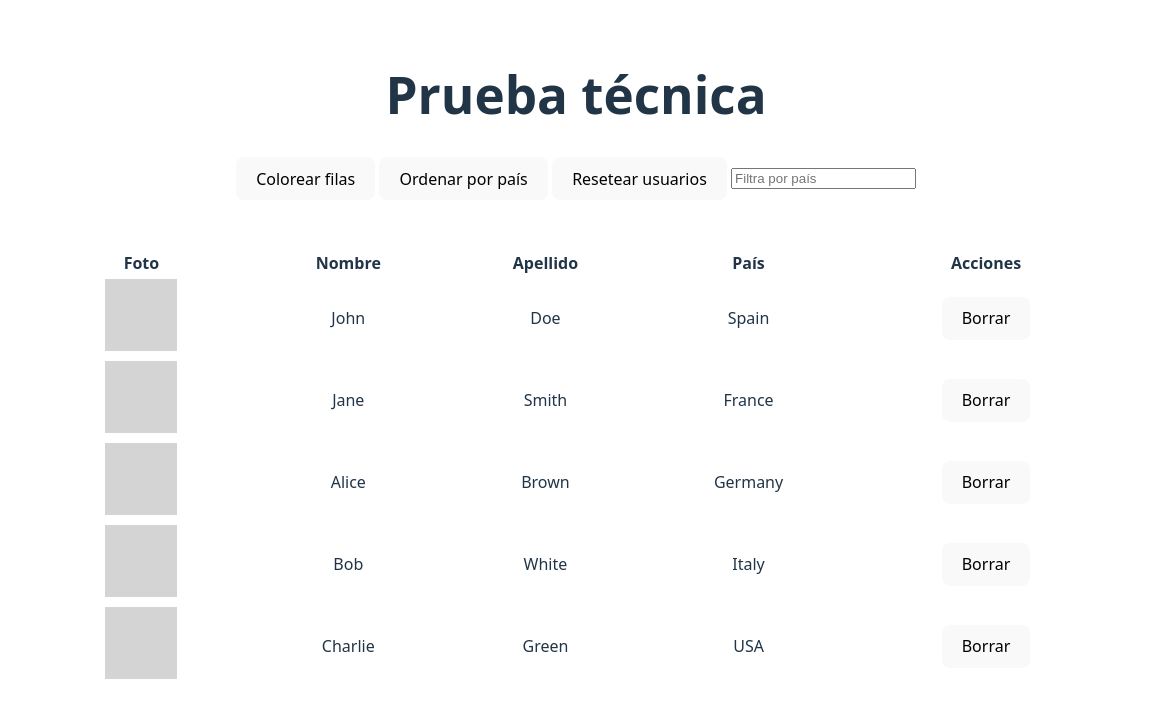
Test case: App functionalities › deletes user row from the list
The image size is (1152, 720).
Expected: the row "John Doe Spain Borrar" is shown, [34,278,1118,358]
Click the button "Borrar" in the row of "John" at point(986, 318), box [942,296,1030,340]
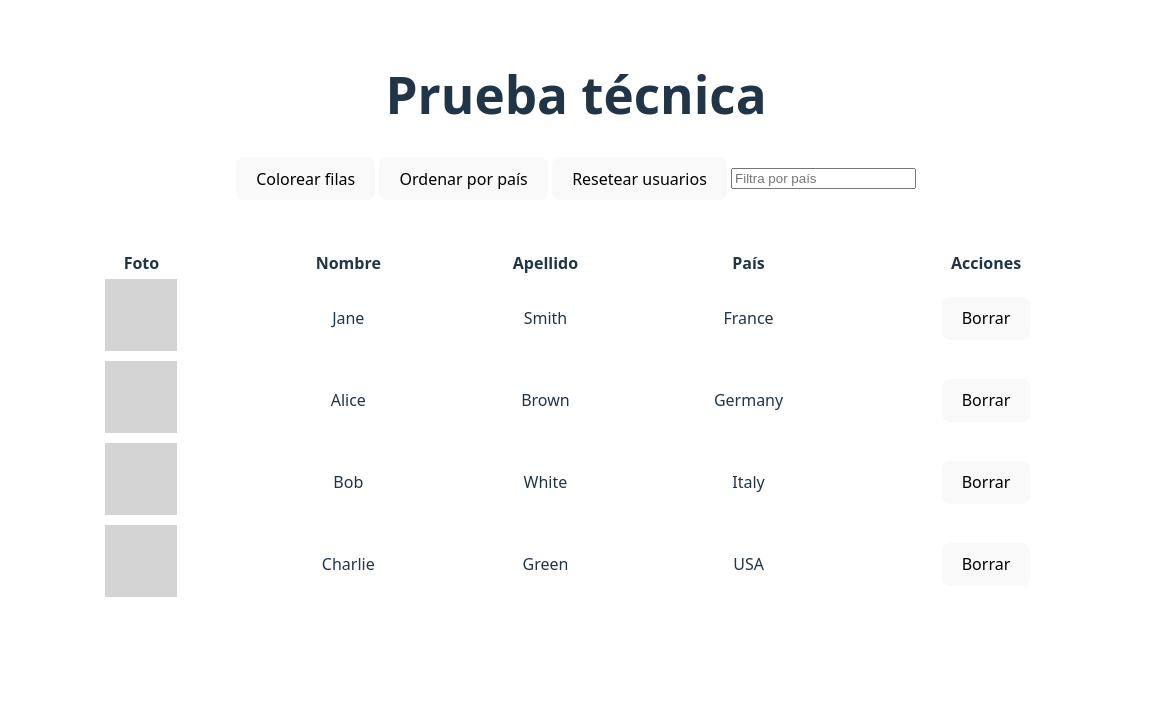
Now the row "John Doe Spain" is gone
